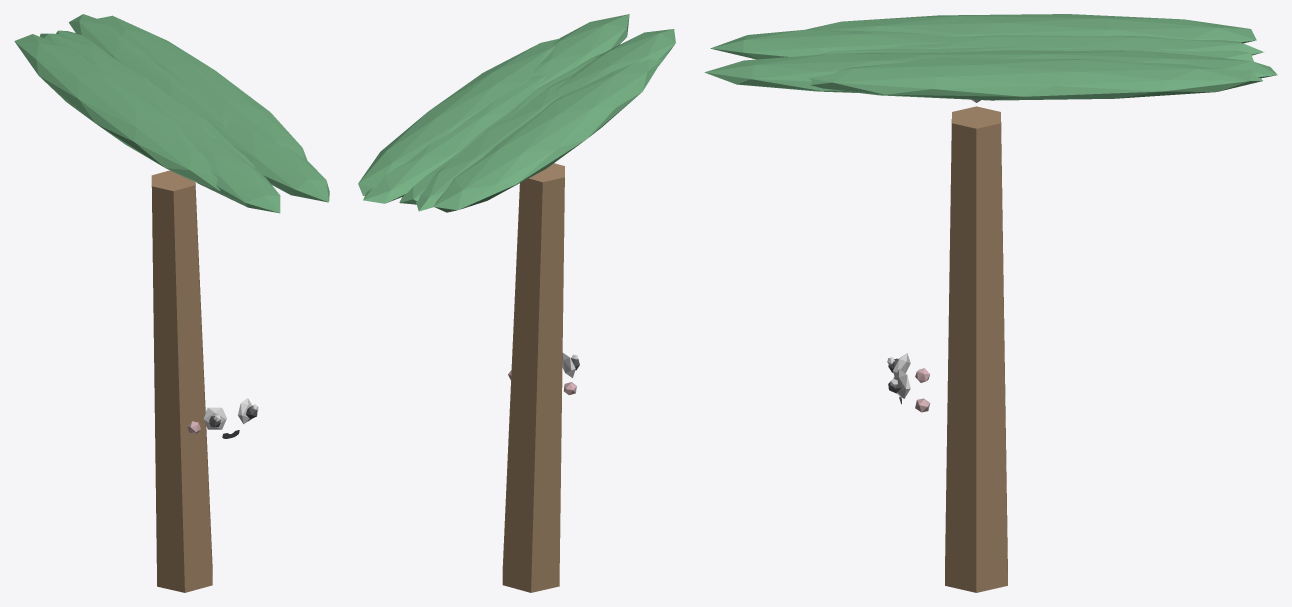
The model's file is roystonea-regia.glb.
3 renders of one model, left to right at view 1: azimuth 30°, elevation 25°; view 2: azimuth 150°, elevation 25°; view 3: azimuth 270°, elevation 25°, orthographic. The views are drawn at different scales.
Visible parts, largest first — view 1: trunk, frond3, frond0, frond1, frond2, frond6, frond4, frond5; view 2: trunk, frond3, frond0, frond6, frond1, frond4, frond2, frond5; view 3: trunk, frond0, frond3, frond2, frond1, frond4, frond6, frond5.
Part boxes in pixels (<box>): trunk: <box>151,170,212,592</box>; frond3: <box>14,34,220,190</box>; frond0: <box>94,15,307,160</box>; frond1: <box>206,119,329,202</box>; frond2: <box>173,120,280,213</box>; frond6: <box>69,14,228,127</box>; frond4: <box>40,33,219,141</box>; frond5: <box>56,30,254,167</box>; trunk: <box>502,163,564,592</box>; frond3: <box>433,58,661,212</box>; frond0: <box>358,38,560,195</box>; frond6: <box>363,74,546,203</box>; frond1: <box>531,14,629,87</box>; frond4: <box>416,74,573,211</box>; frond2: <box>555,29,675,98</box>; frond5: <box>399,53,602,204</box>; trunk: <box>945,106,1007,592</box>; frond0: <box>808,58,1262,100</box>; frond3: <box>806,14,1256,43</box>; frond2: <box>710,29,958,59</box>; frond1: <box>704,52,942,92</box>; frond4: <box>889,35,1263,55</box>; frond6: <box>912,50,1277,78</box>; frond5: <box>818,46,1253,61</box>.
Size of the model in its own units: 0.2312 by 0.7297 by 0.709.
